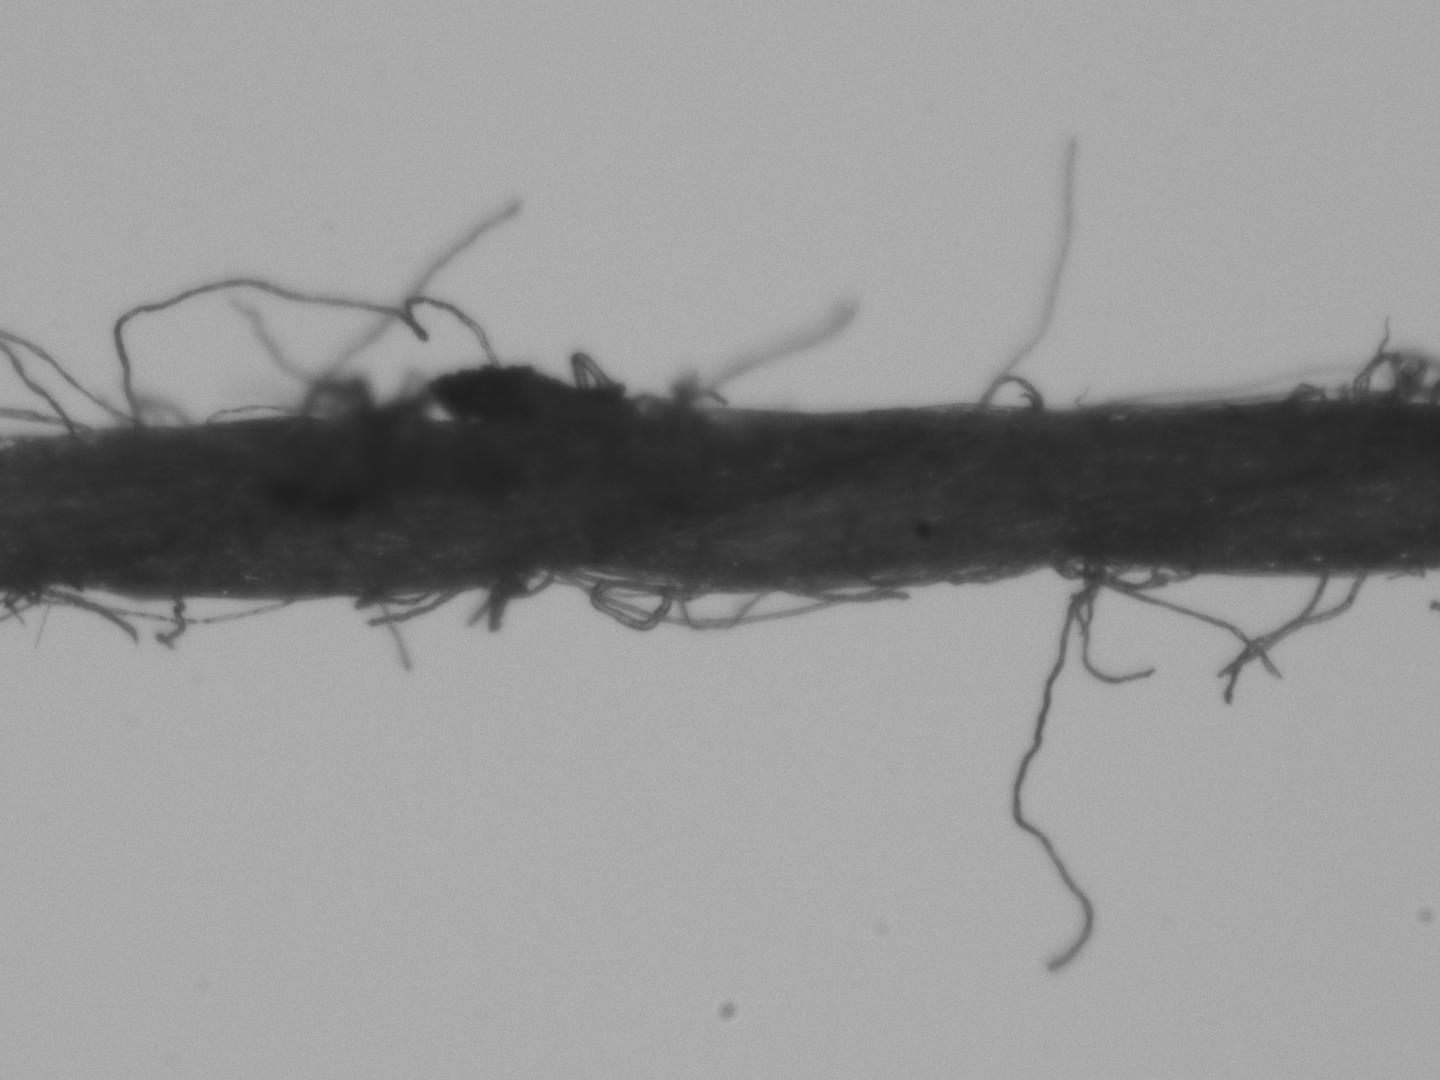loop_fiber: (112, 273, 525, 429), (365, 351, 734, 422), (474, 581, 909, 636), (12, 583, 299, 631), (1277, 341, 1439, 410), (193, 377, 372, 424), (1052, 558, 1210, 589), (979, 372, 1049, 414)
protruding_fiber: (308, 196, 523, 420), (1007, 554, 1109, 968), (976, 133, 1076, 408), (1073, 555, 1274, 676), (1213, 565, 1370, 686), (696, 302, 854, 412), (234, 298, 363, 404), (1228, 569, 1323, 701), (1076, 554, 1153, 686), (370, 583, 460, 630), (374, 590, 409, 675), (150, 592, 189, 651)
